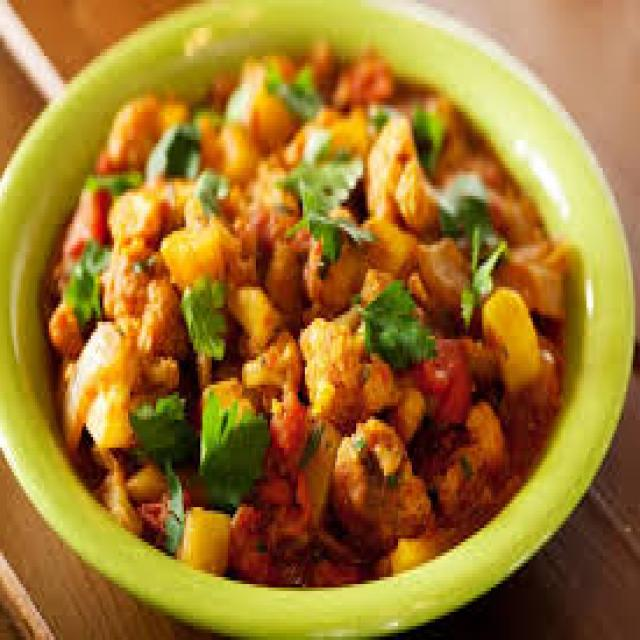Aloo Gobi: (46, 68, 548, 582)
